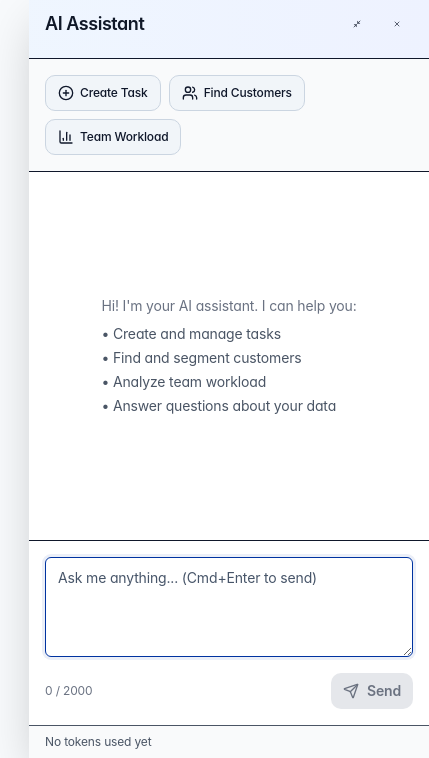
Scenario: AgentPanel › send button › should be enabled when input has text
In the text box: (229, 607) [45, 557, 413, 657], type "Test"
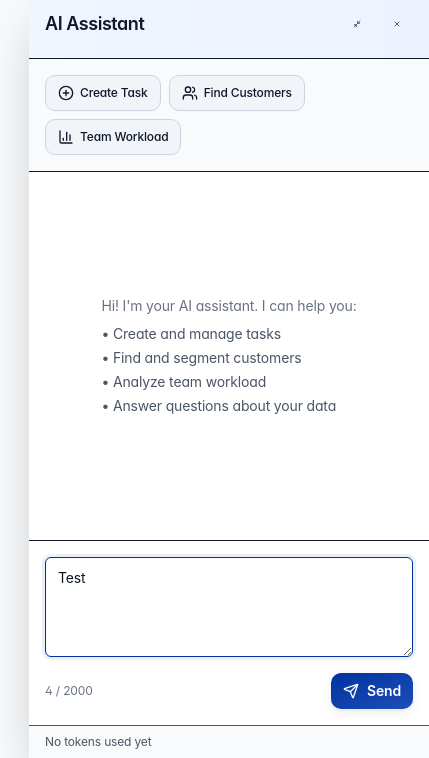
Expected: the button "Send" is enabled, [331, 673, 413, 709]
